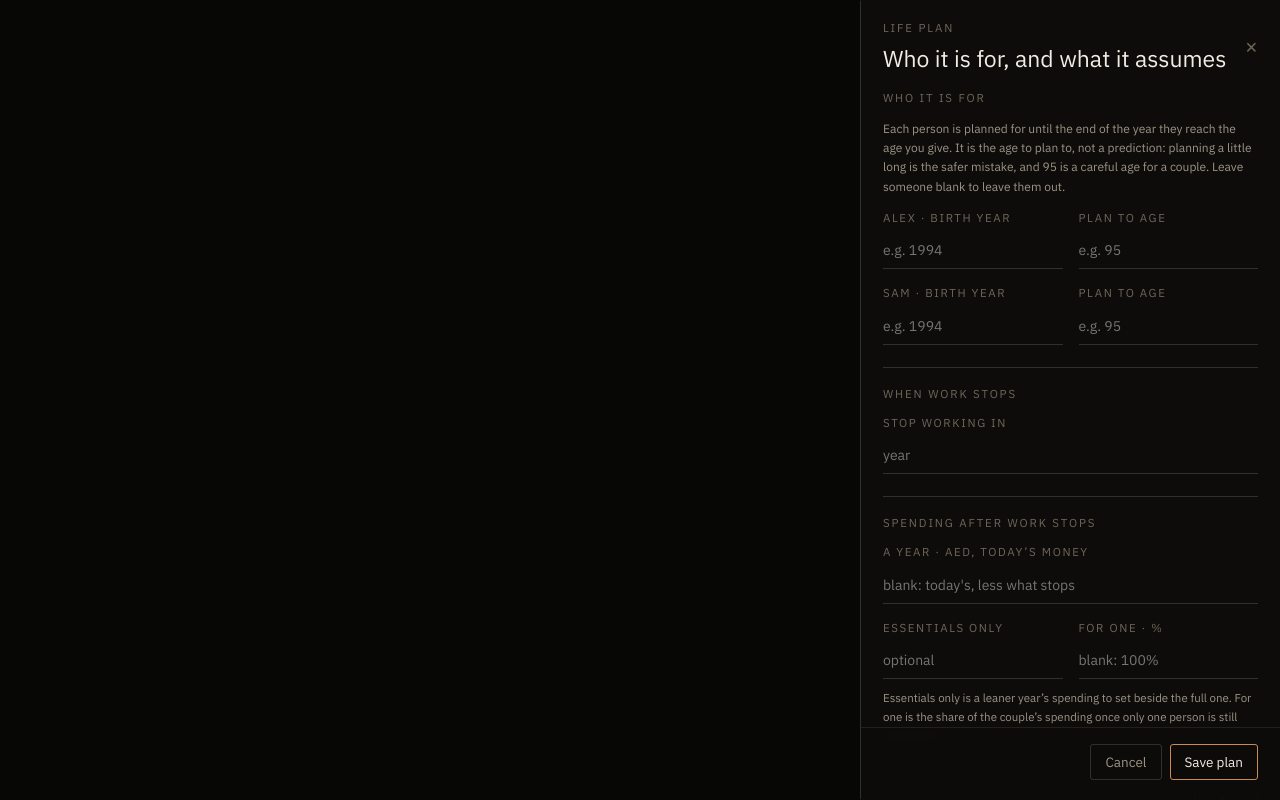
it: LifePlanEditor › refuses a plan that would already have ended
The width and height of the screenshot is (1280, 800).
Type "1930" into the number field named "Alex's birth year".
click(973, 251); type("1930")  # box [883, 232, 1062, 269]
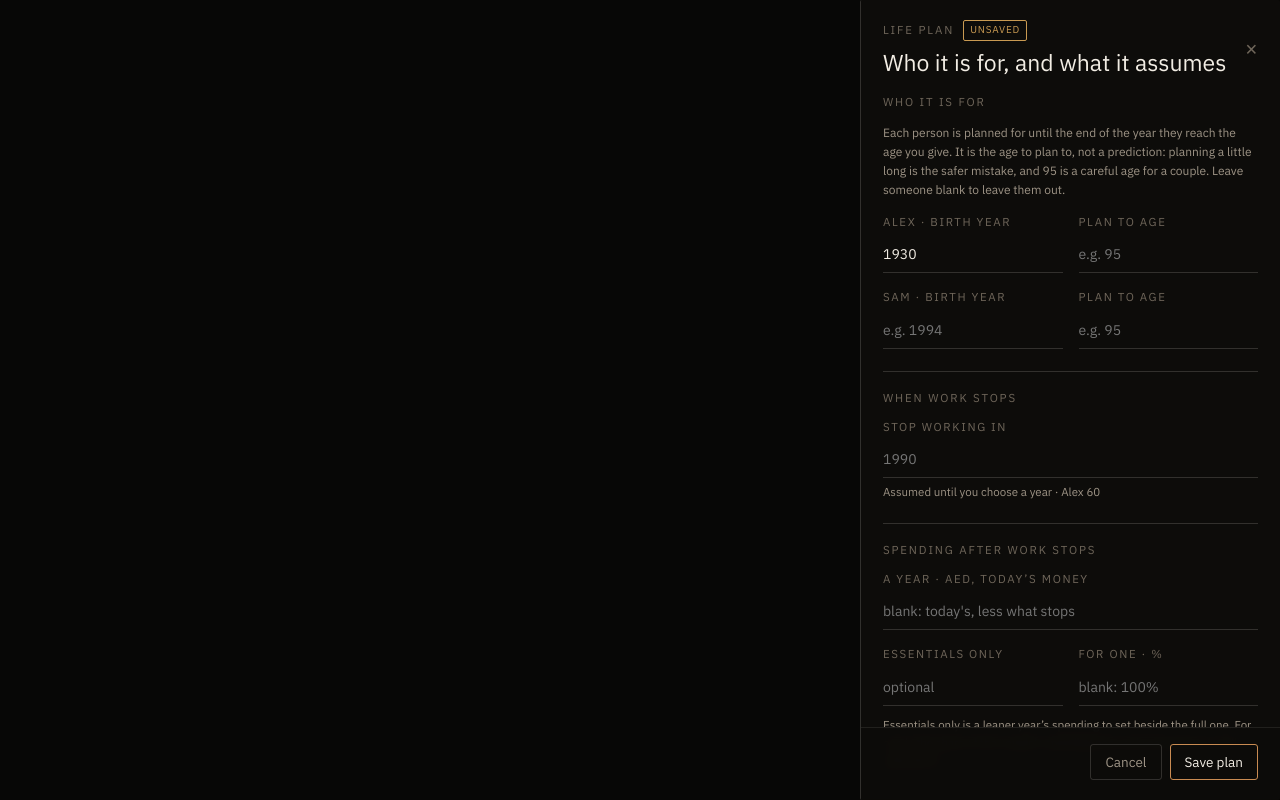
Type "80" into the number field named "Age to plan Alex to".
click(1168, 255); type("80")  # box [1078, 236, 1258, 273]
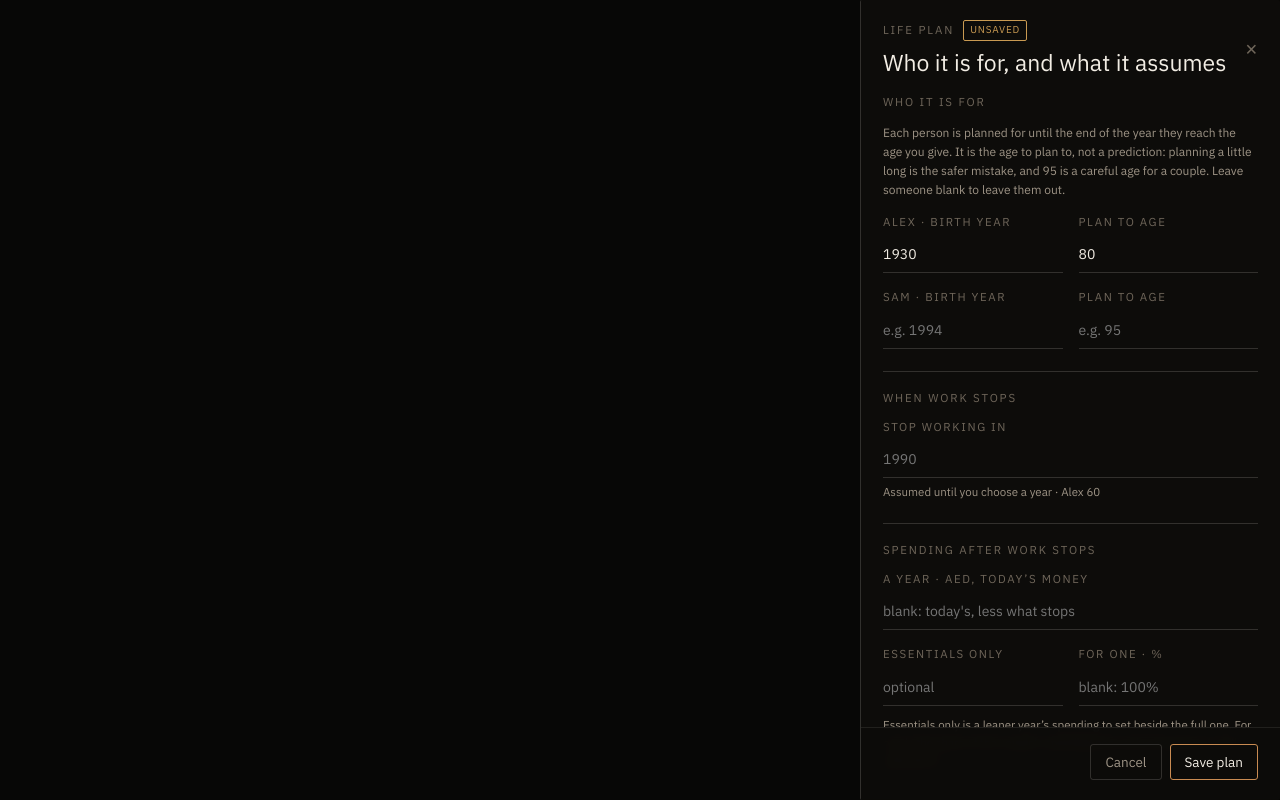
Click the button "Save plan".
click(1214, 762)  # box [1170, 744, 1258, 780]
(page scrolled)
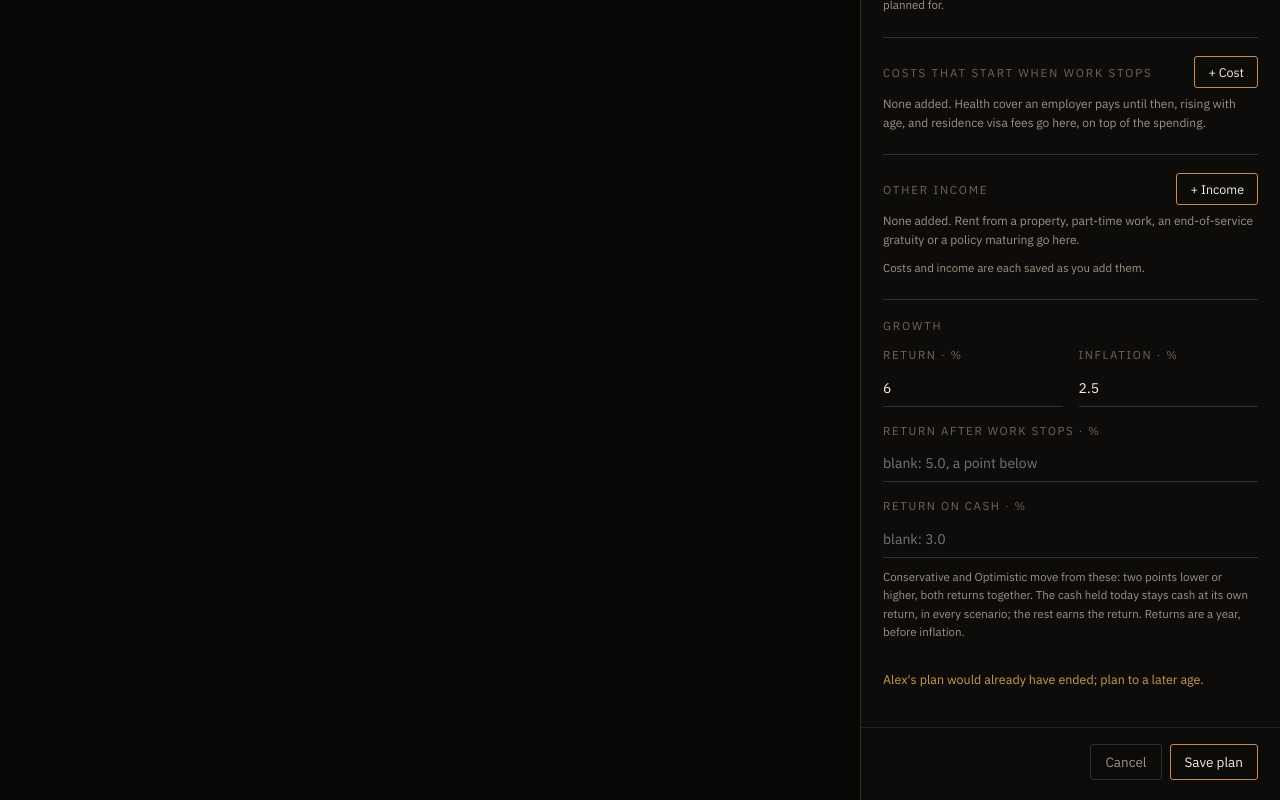
Expected: the message shows "already have ended", [883, 671, 1204, 687]
